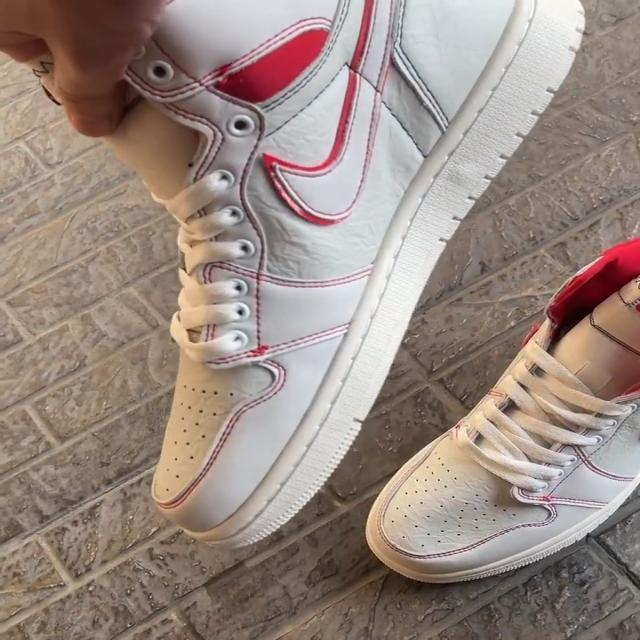nike fake jordan 1: (42, 0, 590, 549), (362, 225, 640, 582)
